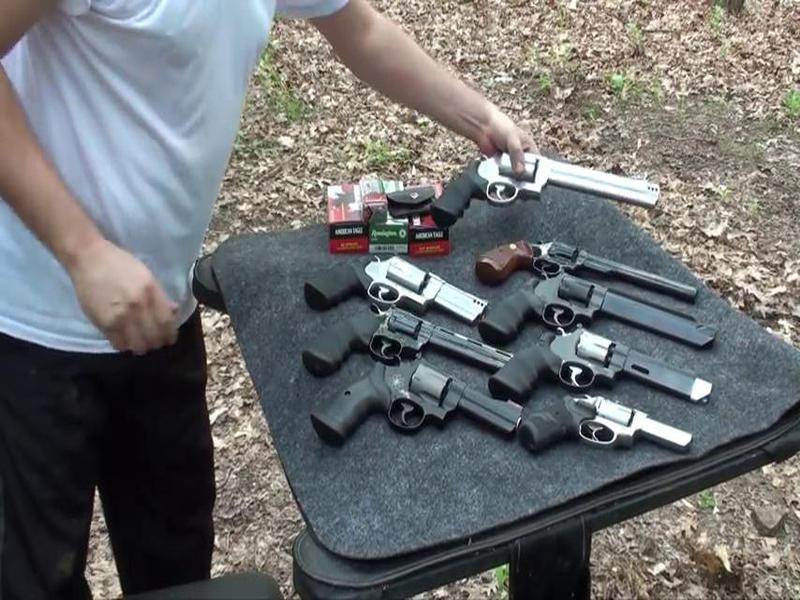Revolver: (417, 142, 679, 254)
